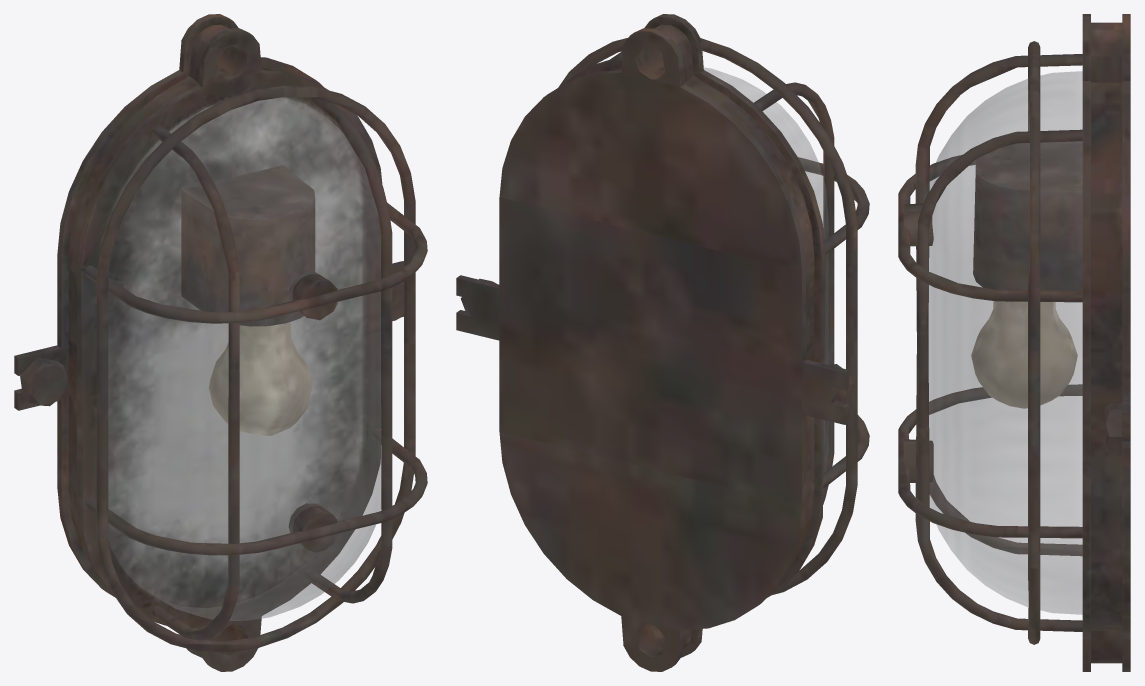
File: industrial_wall_lamp.glb
3 views of the same model, side by side, from view 1: azimuth 30°, elevation 25°; view 2: azimuth 150°, elevation 25°; view 3: azimuth 270°, elevation 25° (orthographic).
Parts seen in each view (by area): view 1: industrial_wall_lamp; view 2: industrial_wall_lamp; view 3: industrial_wall_lamp.
Part boxes in pixels (x1,y1,x2,y2): industrial_wall_lamp: (14, 14, 427, 671); industrial_wall_lamp: (456, 14, 869, 671); industrial_wall_lamp: (898, 14, 1130, 671).
Size of the model in its own units: 0.2734 by 0.4299 by 0.139.
Materials: 2 (2 with a texture image).
